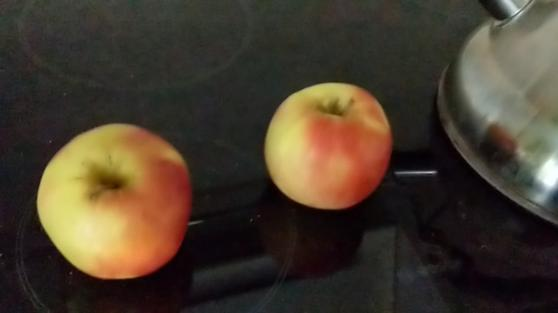apple: (39, 120, 193, 281), (265, 81, 399, 212)
